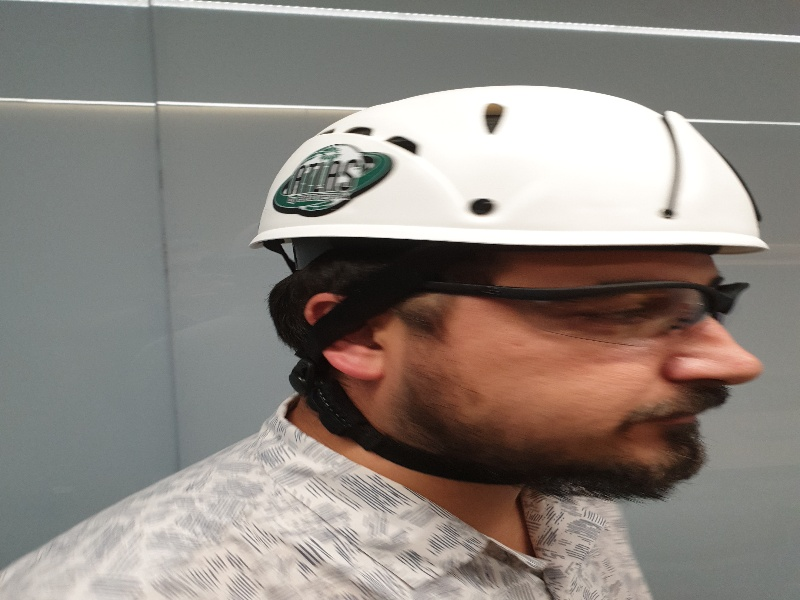Baret: (254, 86, 770, 253)
Gozluk: (399, 280, 751, 341)
